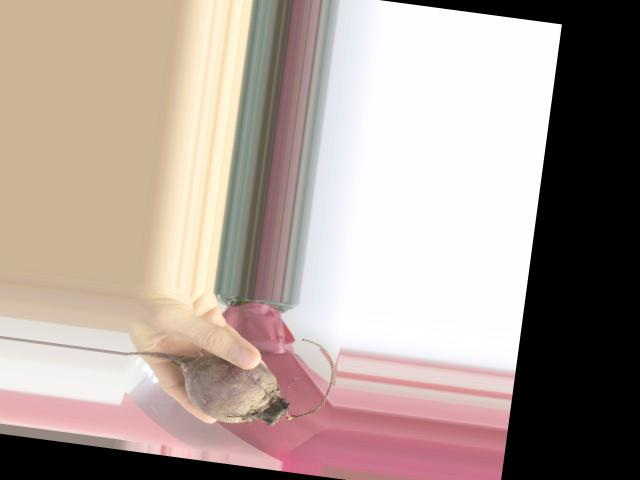beet: (119, 315, 338, 435)
